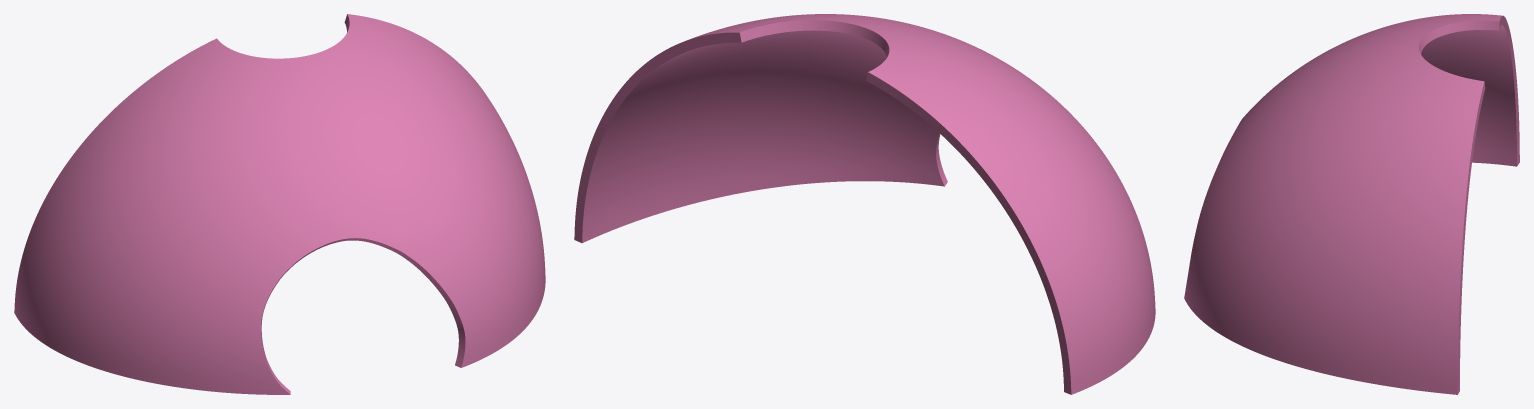
File: halfR_1.fbx
The picture shows the model from 3 angles, left to right: view 1: azimuth 30°, elevation 25°; view 2: azimuth 150°, elevation 25°; view 3: azimuth 270°, elevation 25°; orthographic projection. The views are drawn at different scales.
Visible parts, largest first — view 1: Wall_Circle; view 2: Wall_Circle; view 3: Wall_Circle.
Part boxes in pixels (x1,y1,x2,y2): Wall_Circle: [14, 14, 545, 394]; Wall_Circle: [574, 14, 1155, 394]; Wall_Circle: [1184, 14, 1519, 394].
Size of the model in its own units: 509 by 305 by 236.
